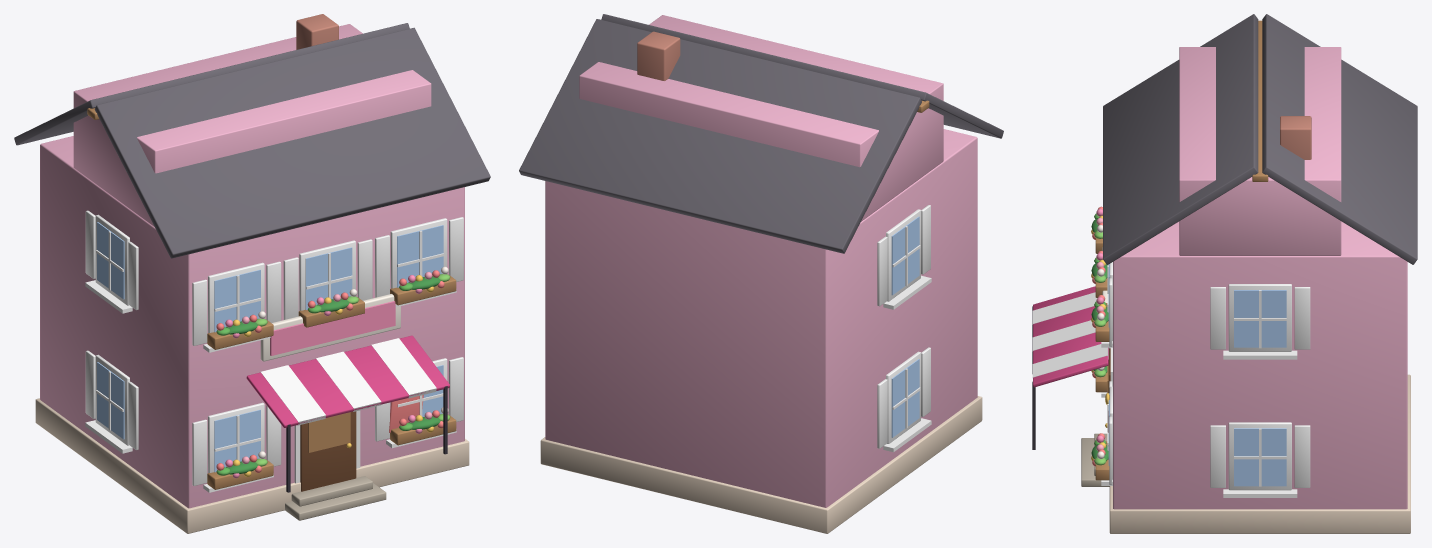
The model's file is shop_goobyman.glb.
The picture shows the model from 3 angles, left to right: view 1: azimuth 30°, elevation 25°; view 2: azimuth 150°, elevation 25°; view 3: azimuth 270°, elevation 25°; orthographic projection. The views are drawn at different scales.
Parts seen in each view (by area): view 1: shop_goobyman; view 2: shop_goobyman; view 3: shop_goobyman.
Part boxes in pixels (<box>): shop_goobyman: <box>14,14,490,533</box>; shop_goobyman: <box>519,14,1003,533</box>; shop_goobyman: <box>1032,14,1417,533</box>.
Bounding box in the file's own units: 7 × 8.05 × 7.32.
